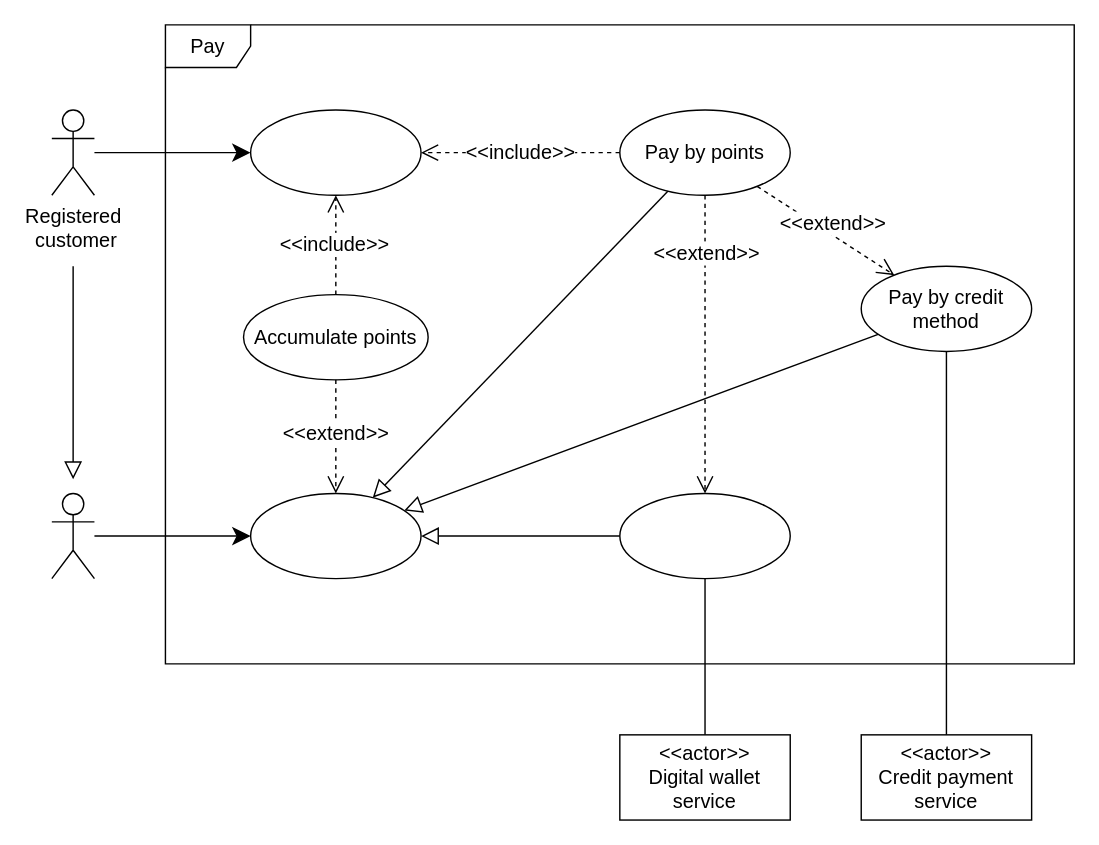
This 1099x845 diagram has some shape labels left out. The centre of each missing label's shape, as x and y in pixels:
Authenticate: point (335, 152)
Customer: point (72, 535)
Pay by digital wallets: point (704, 535)
Purchase: point (335, 535)
